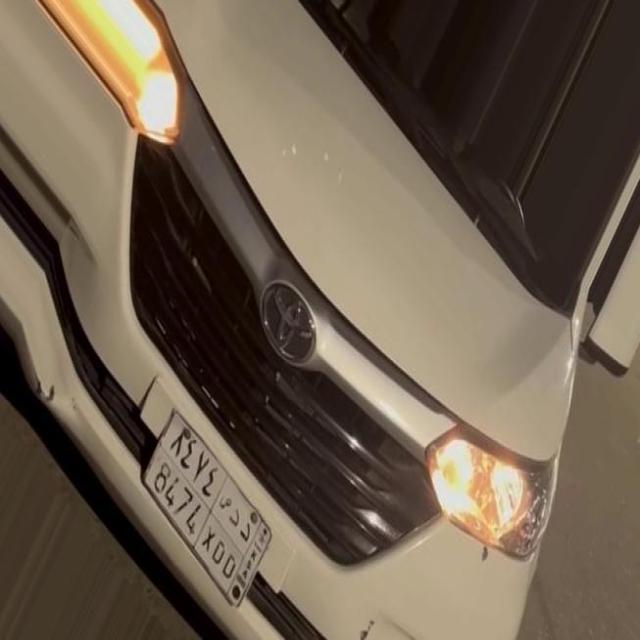Car-plate: (126, 390, 294, 630)
